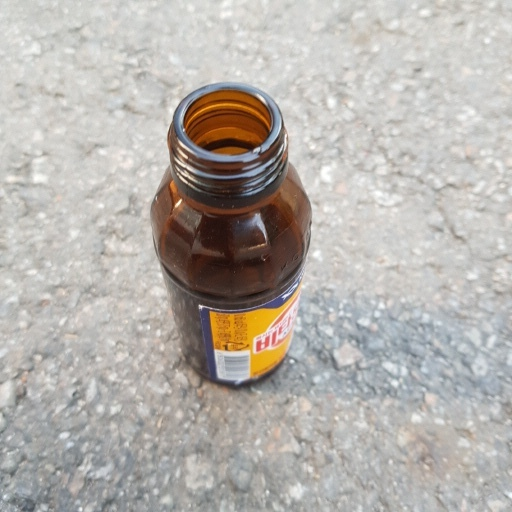Glass_3: (148, 82, 317, 386)
